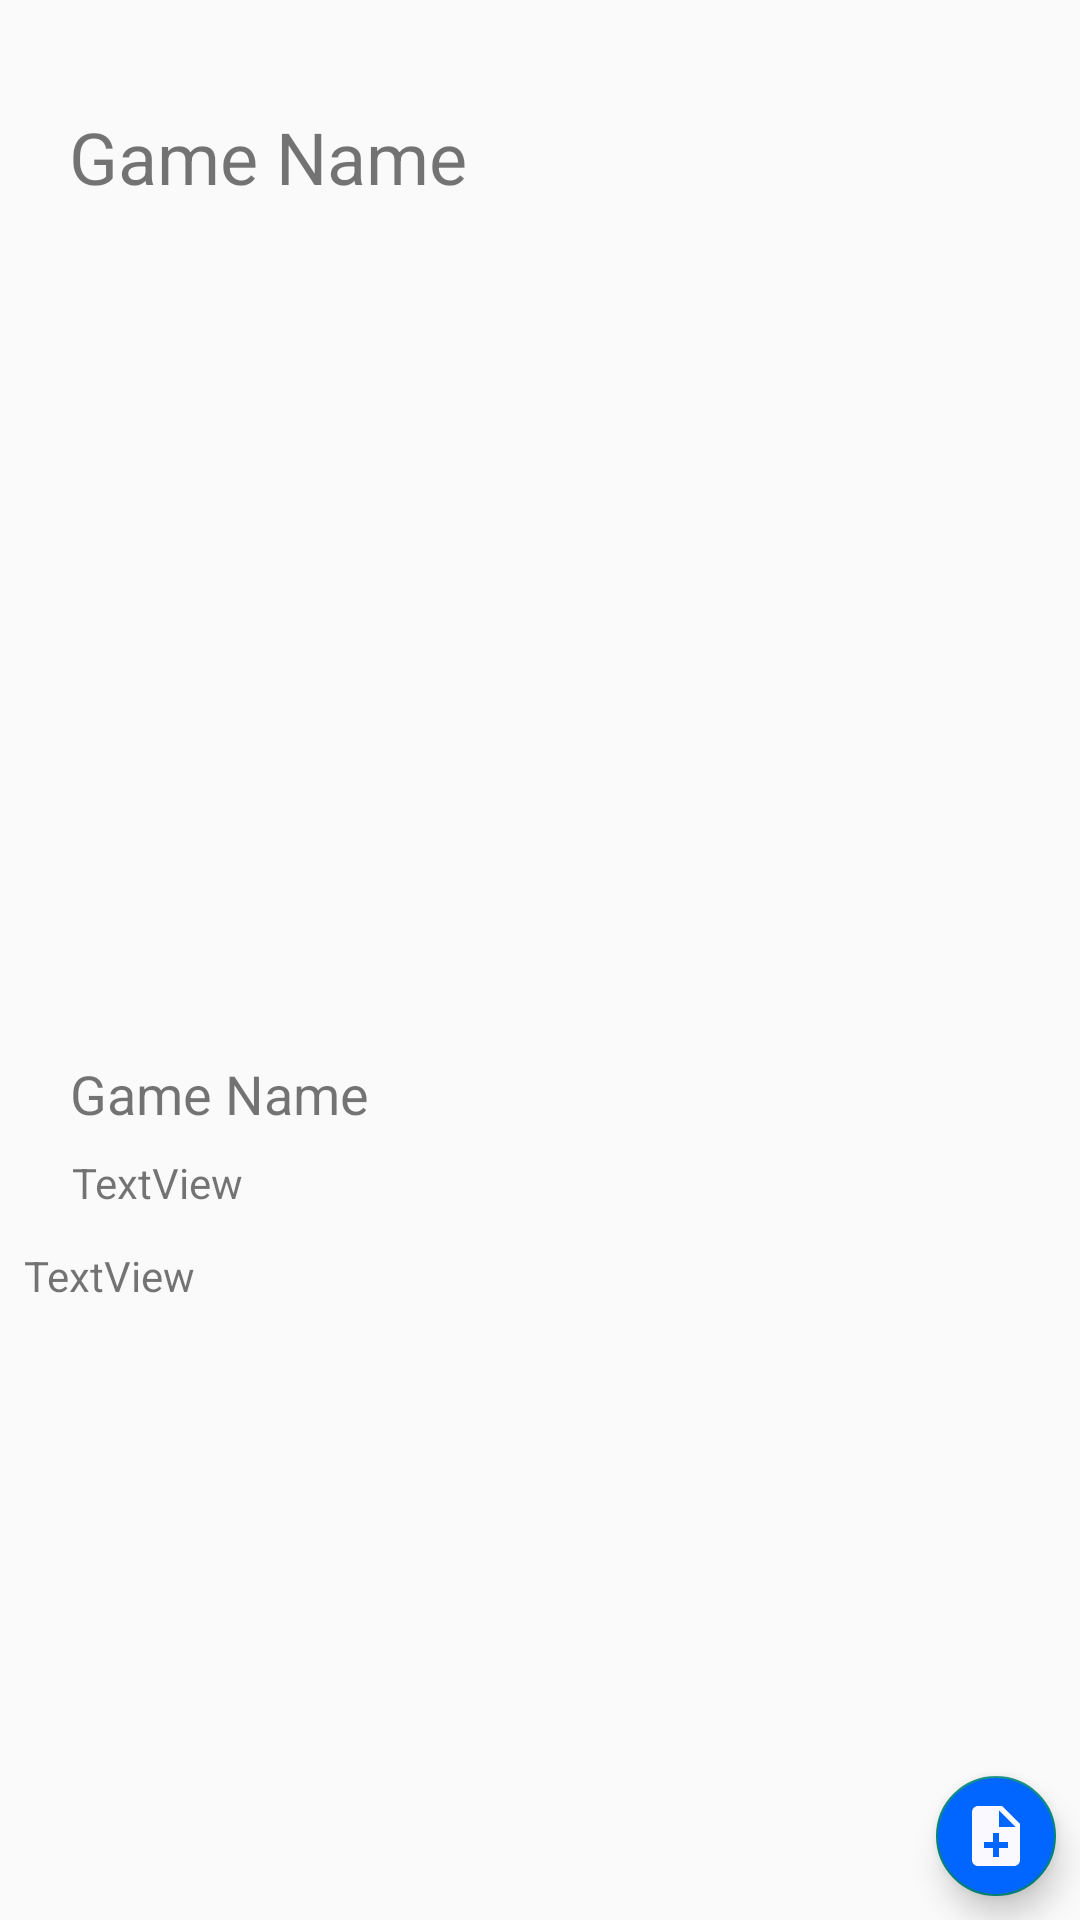

Locate icon controls on the screen. Image size 1080w x 1920h, boxes as {"x1": x1, "y1": y1, "x2": x2, "y2": y2}.
add: {"x1": 936, "y1": 1776, "x2": 1056, "y2": 1896}
